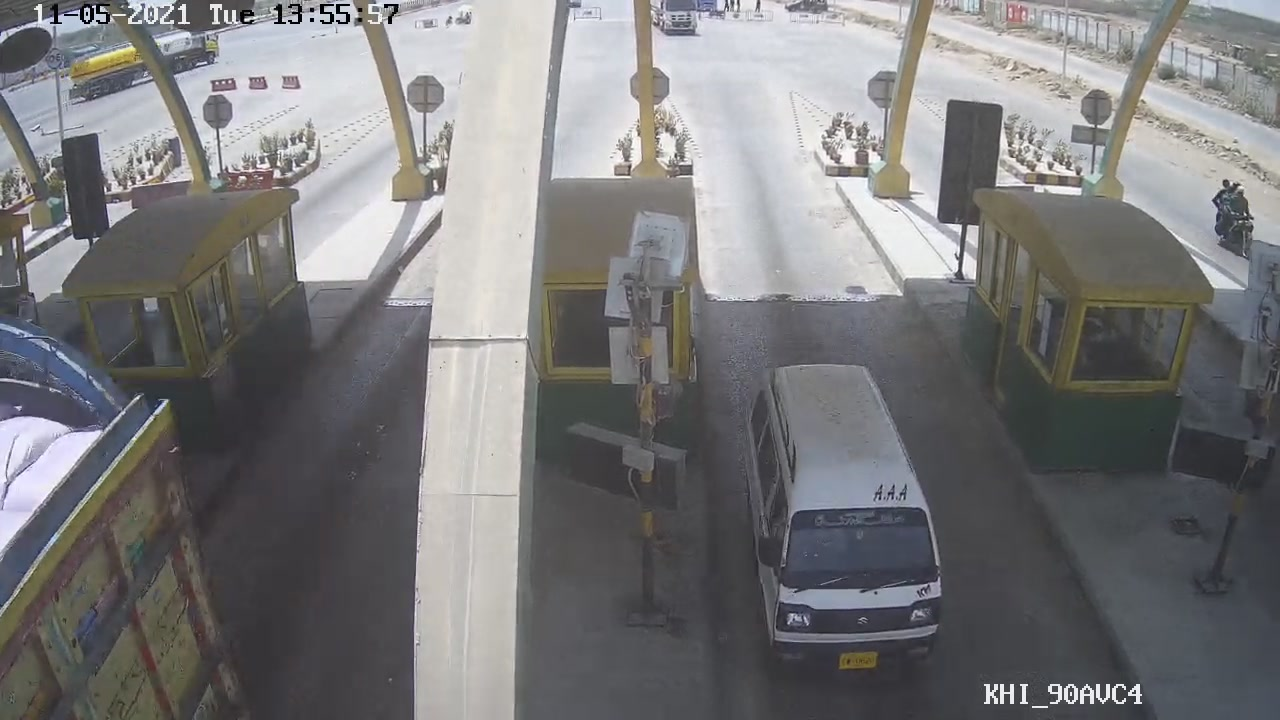F1: (739, 350, 952, 681)
